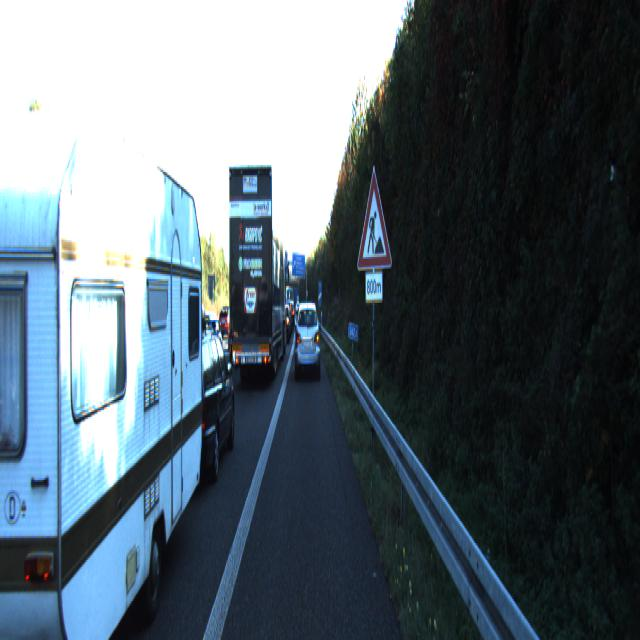Car: (0, 51, 205, 638), (150, 324, 236, 494), (229, 162, 286, 386), (294, 298, 321, 378), (191, 310, 224, 374)
